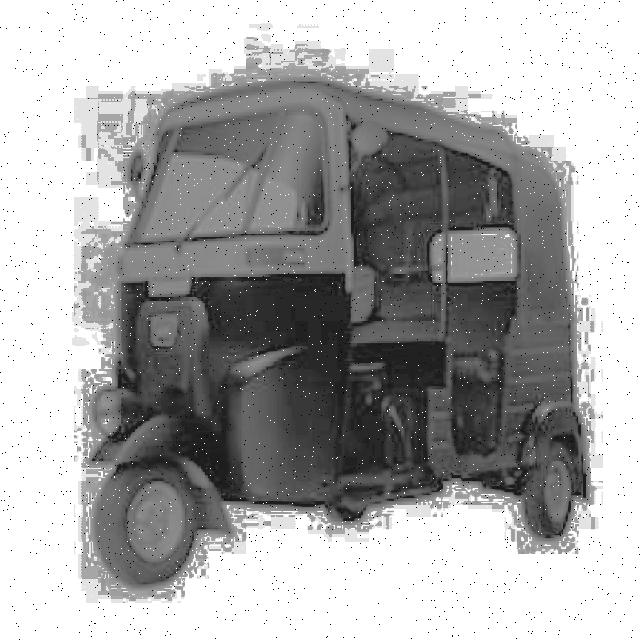Auto-Rickshaw: (77, 82, 591, 583)
